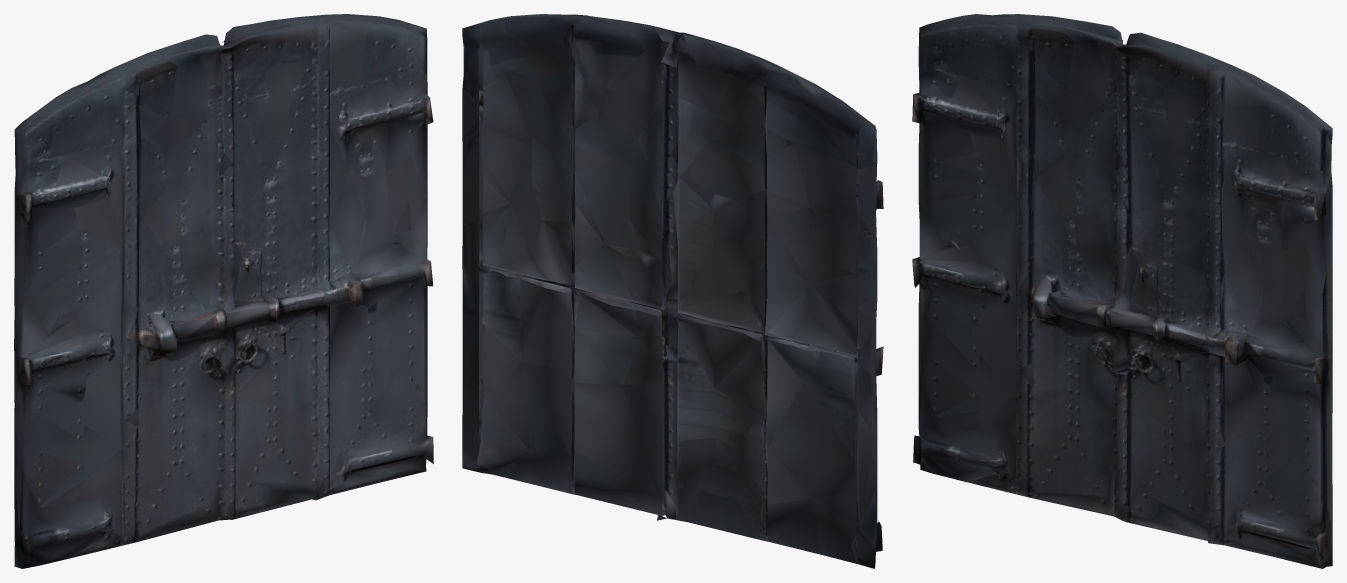
The model's file is gate_door.glb.
3 renders of one model, left to right at view 1: azimuth 30°, elevation 25°; view 2: azimuth 150°, elevation 25°; view 3: azimuth 330°, elevation 25°, orthographic.
Parts seen in each view (by area): view 1: Mesh_0; view 2: Mesh_0; view 3: Mesh_0.
Boxes of the visible parts, <box> form: Mesh_0: <box>14,14,433,568</box>; Mesh_0: <box>462,14,883,568</box>; Mesh_0: <box>912,14,1332,568</box>.
Size of the model in its own units: 3.55 by 4 by 0.382.
1 material, 1 textured.
